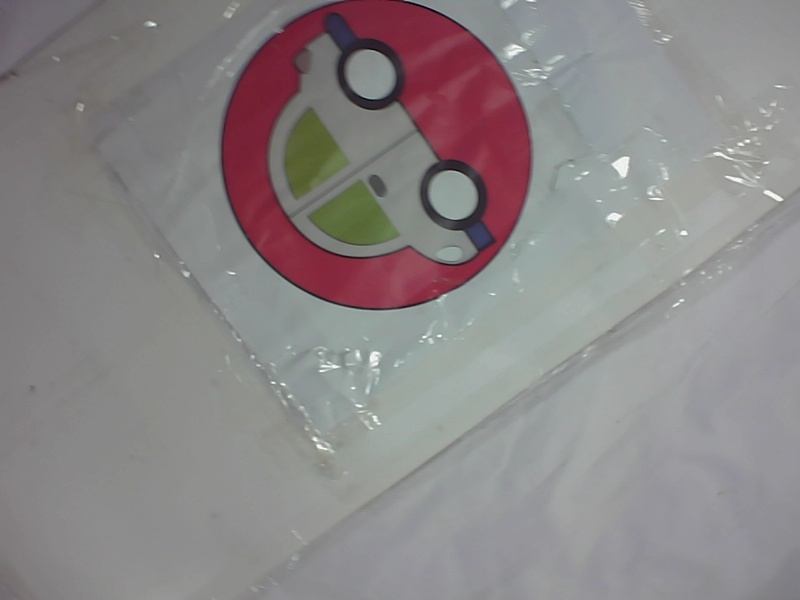areaC: (212, 3, 548, 312)
